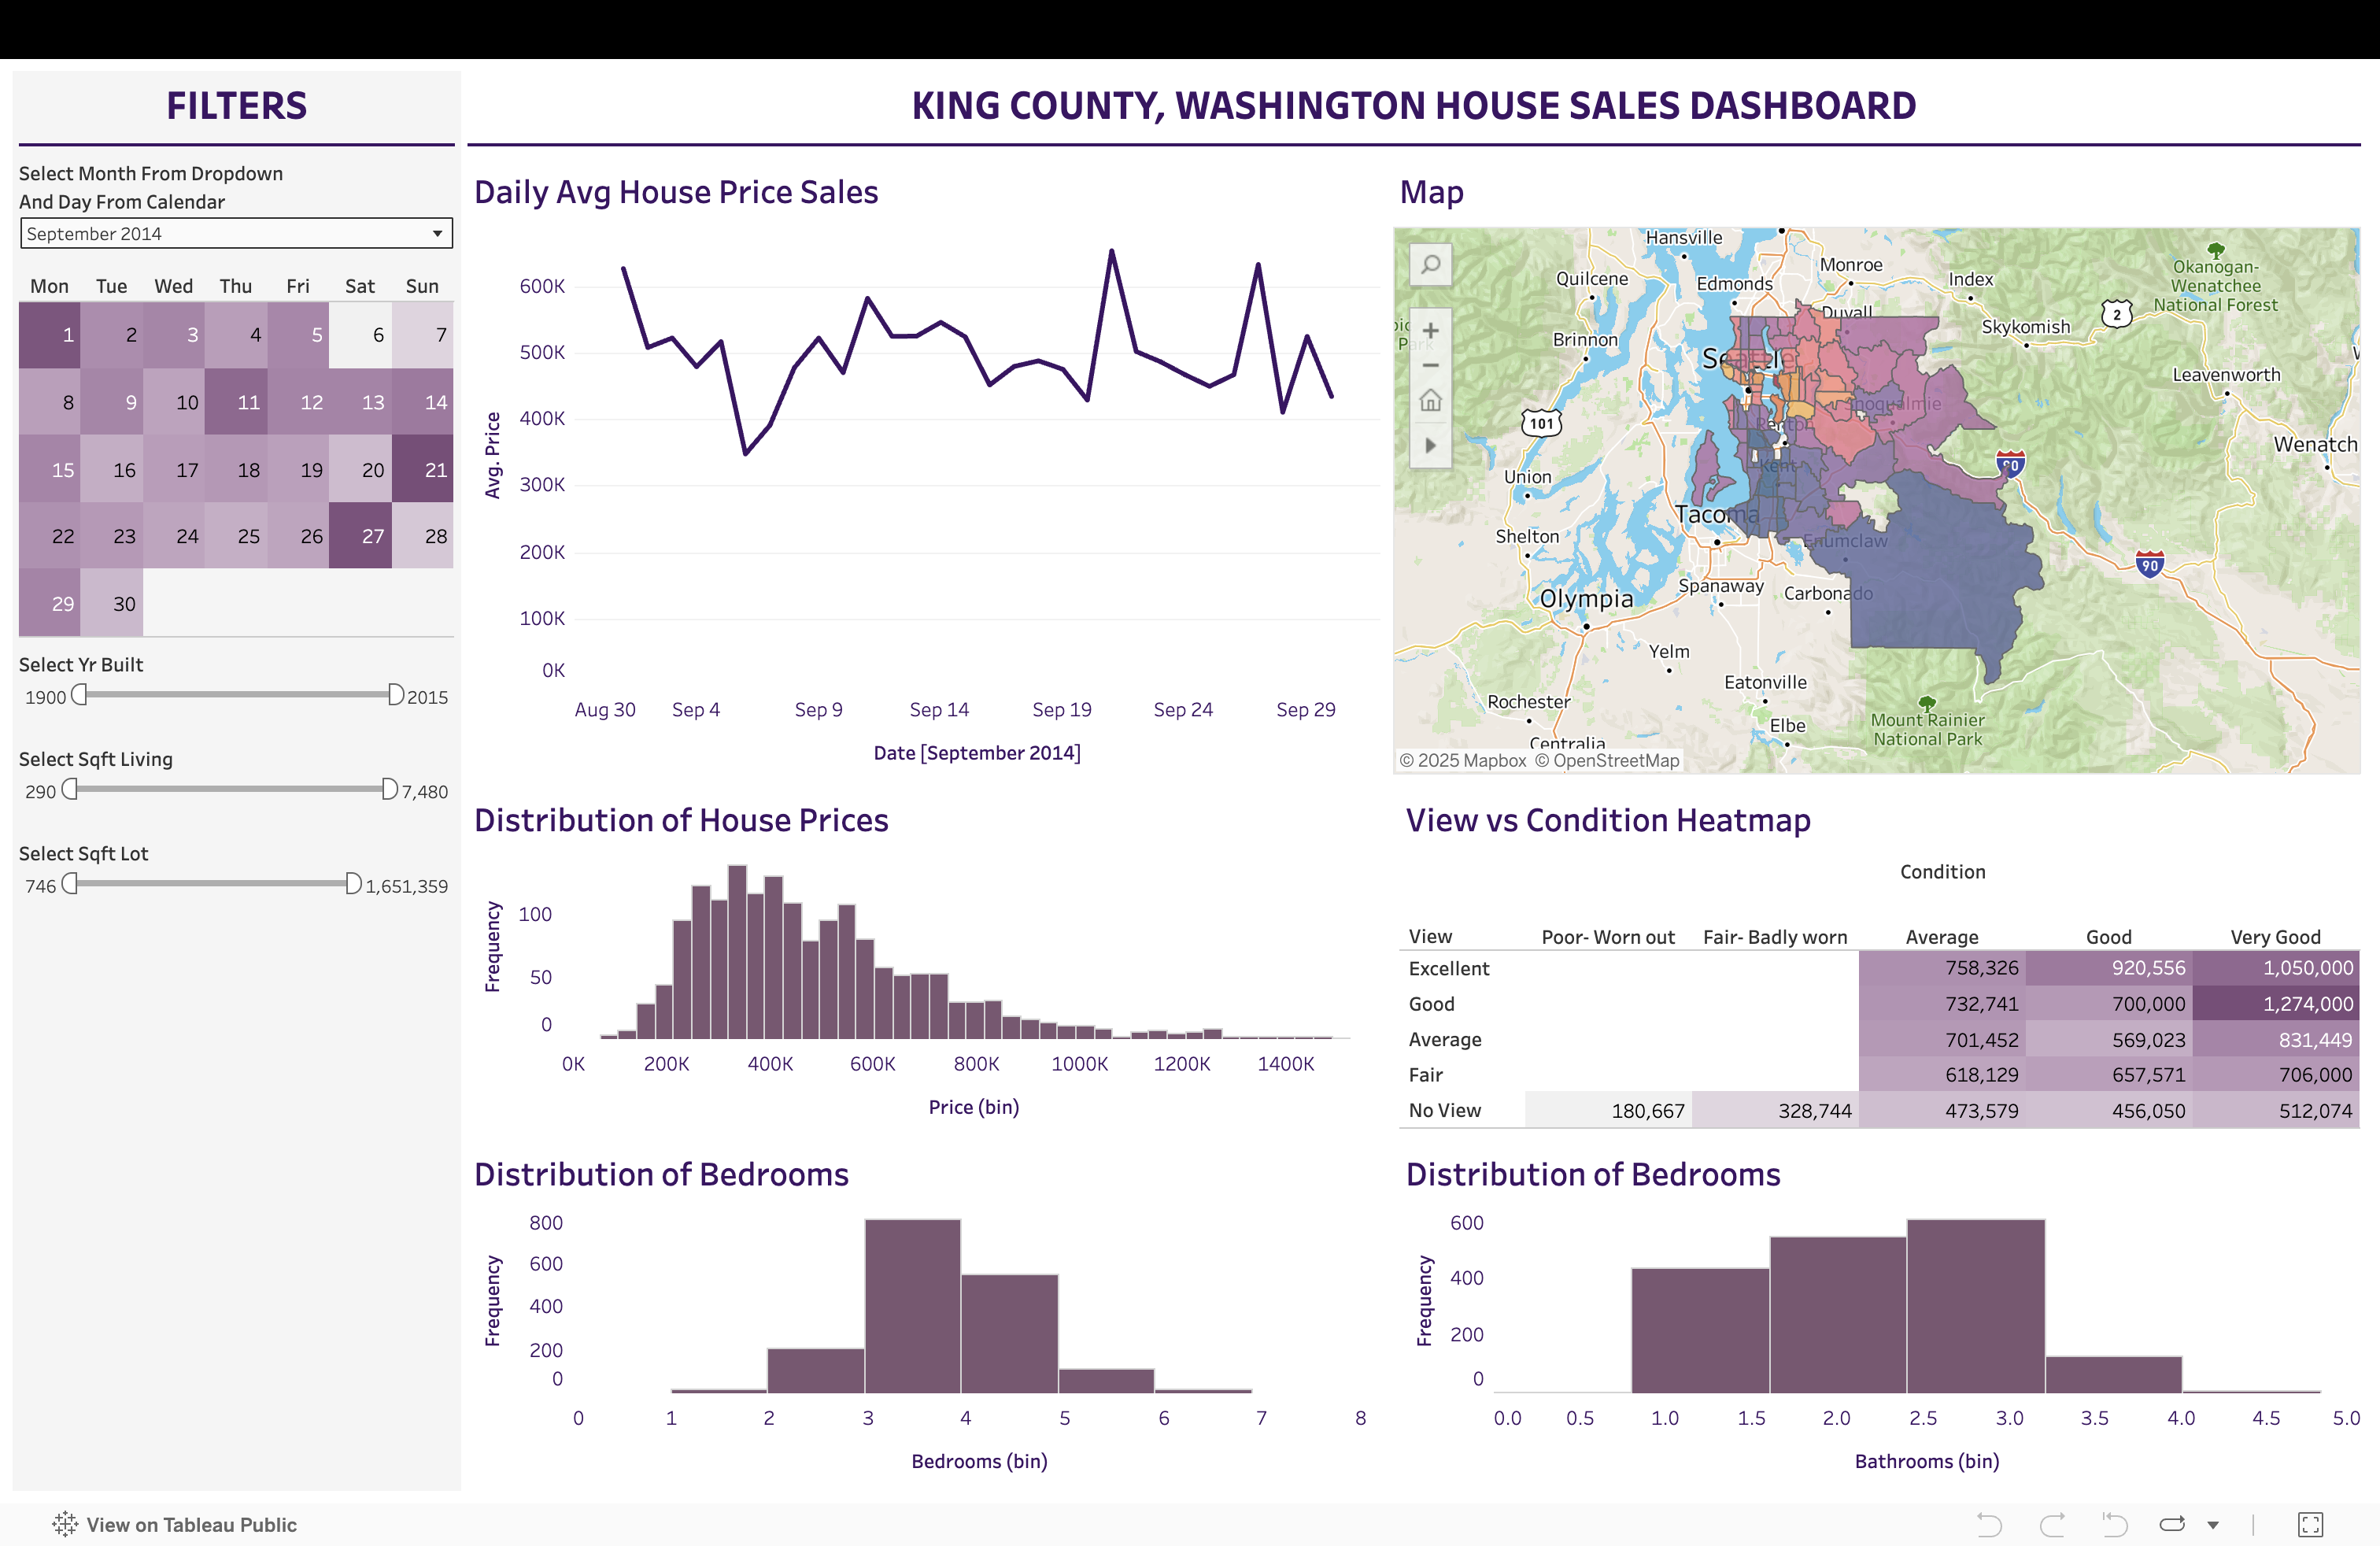

The dashboard page shown, as its layout file describes it:
{"tool":"tableau","page":{"name":"HouseSalesDashboard","canvas":[1000,1000],"units":"permille","ordinal":0},"visuals":[{"type":"text","box":[4.7,8.5,188.4,43.4]},{"type":"text","box":[193.1,8.5,802.2,43.4]},{"type":"blank","box":[4.7,51.9,188.4,10.6]},{"type":"blank","box":[193.1,51.9,802.2,10.6]},{"type":"filter","title":"Calendar","param":"[federated.1q1gs9513awccd1ajrgbm1bpk5w9].[my:date:ok]","box":[4.7,62.5,188.4,74.2]},{"type":"worksheet","title":"DailyAvgSales","mark":"Automatic","rows":["price"],"cols":["date"],"box":[193.1,62.5,390.6,437.5]},{"type":"worksheet","title":"Map","mark":"Automatic","box":[583.7,62.5,411.6,437.5]},{"type":"worksheet","title":"Calendar","mark":"Square","rows":["date"],"cols":["date"],"box":[4.7,136.6,188.4,256.4]},{"type":"filter","title":"Calendar","param":"[federated.1q1gs9513awccd1ajrgbm1bpk5w9].[none:yr_built:qk]","box":[4.7,393,188.4,63.6]},{"type":"filter","title":"Calendar","param":"[federated.1q1gs9513awccd1ajrgbm1bpk5w9].[none:sqft_living:qk]","box":[4.7,456.5,188.4,63.6]},{"type":"worksheet","title":"HistHousePrice","mark":"Automatic","rows":["price"],"cols":["Price (bin)"],"box":[193.1,500,392.6,245.8]},{"type":"worksheet","title":"Heatmap","mark":"Square","rows":["view"],"cols":["condition"],"box":[585.7,500,409.6,245.8]},{"type":"filter","title":"Calendar","param":"[federated.1q1gs9513awccd1ajrgbm1bpk5w9].[none:sqft_lot:qk]","box":[4.7,520.1,188.4,63.6]},{"type":"worksheet","title":"HistBedrooms","mark":"Automatic","rows":["bedrooms"],"cols":["Bedrooms (bin)"],"box":[193.1,745.8,392.6,245.8]},{"type":"worksheet","title":"HistBathrooms","mark":"Automatic","rows":["bathrooms"],"cols":["Bathrooms (bin)"],"box":[585.7,745.8,409.6,245.8]}]}

Visuals, with their boxes on the dashboard's canvas, which has no fixed pixel size, in thousandths of its width and height (x1, y1, x2, y2). These are canvas units, not pixel positions in the 2380x1546 screenshot, which may show the page scaled, cropped or inside an application window:
text: 5/8/193/52
text: 193/8/995/52
blank: 5/52/193/62
blank: 193/52/995/62
"Calendar" filter: 5/62/193/137
"DailyAvgSales" worksheet: 193/62/584/500
"Map" worksheet: 584/62/995/500
"Calendar" worksheet (Square marks): 5/137/193/393
"Calendar" filter: 5/393/193/457
"Calendar" filter: 5/456/193/520
"HistHousePrice" worksheet: 193/500/586/746
"Heatmap" worksheet (Square marks): 586/500/995/746
"Calendar" filter: 5/520/193/584
"HistBedrooms" worksheet: 193/746/586/992
"HistBathrooms" worksheet: 586/746/995/992
